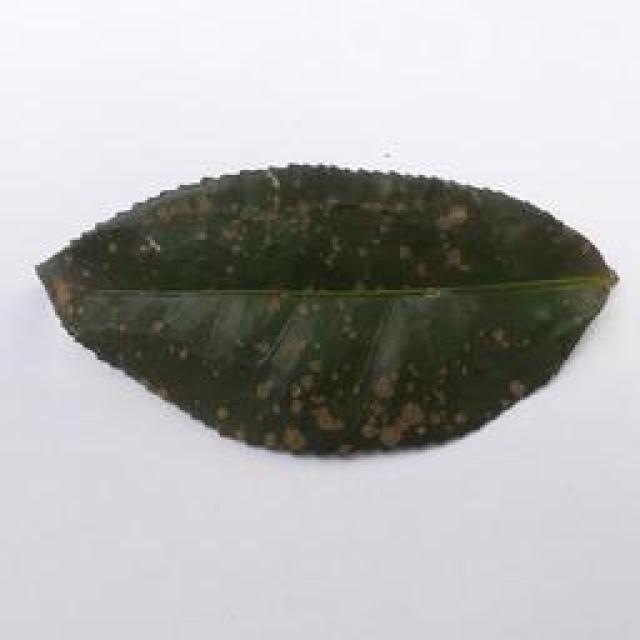Algal Leaf Spot: (25, 145, 622, 482)
